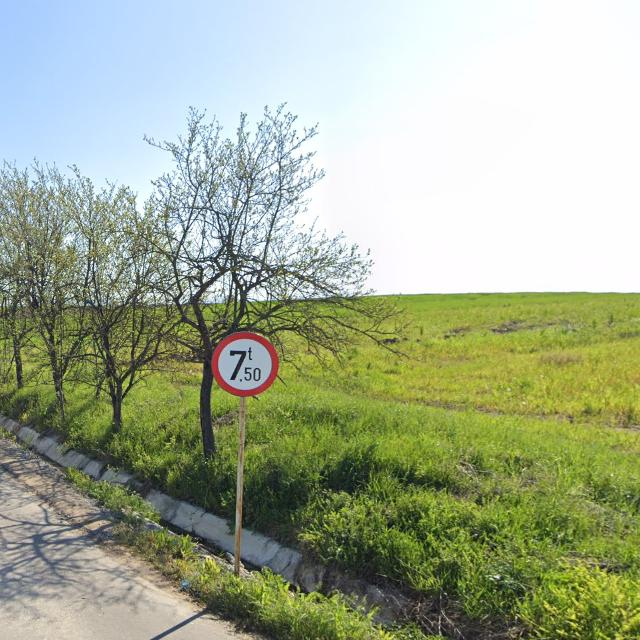forb_weight_over_7.5t: (212, 332, 280, 396)
